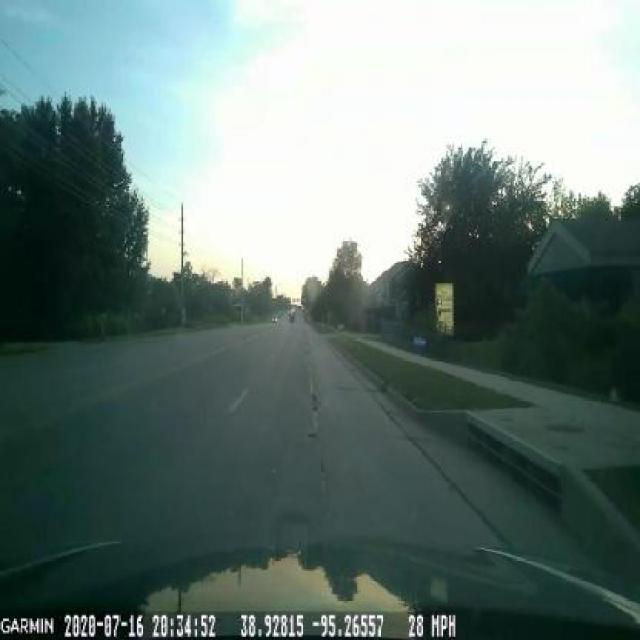pothole: (306, 384, 329, 413), (303, 425, 323, 450)
